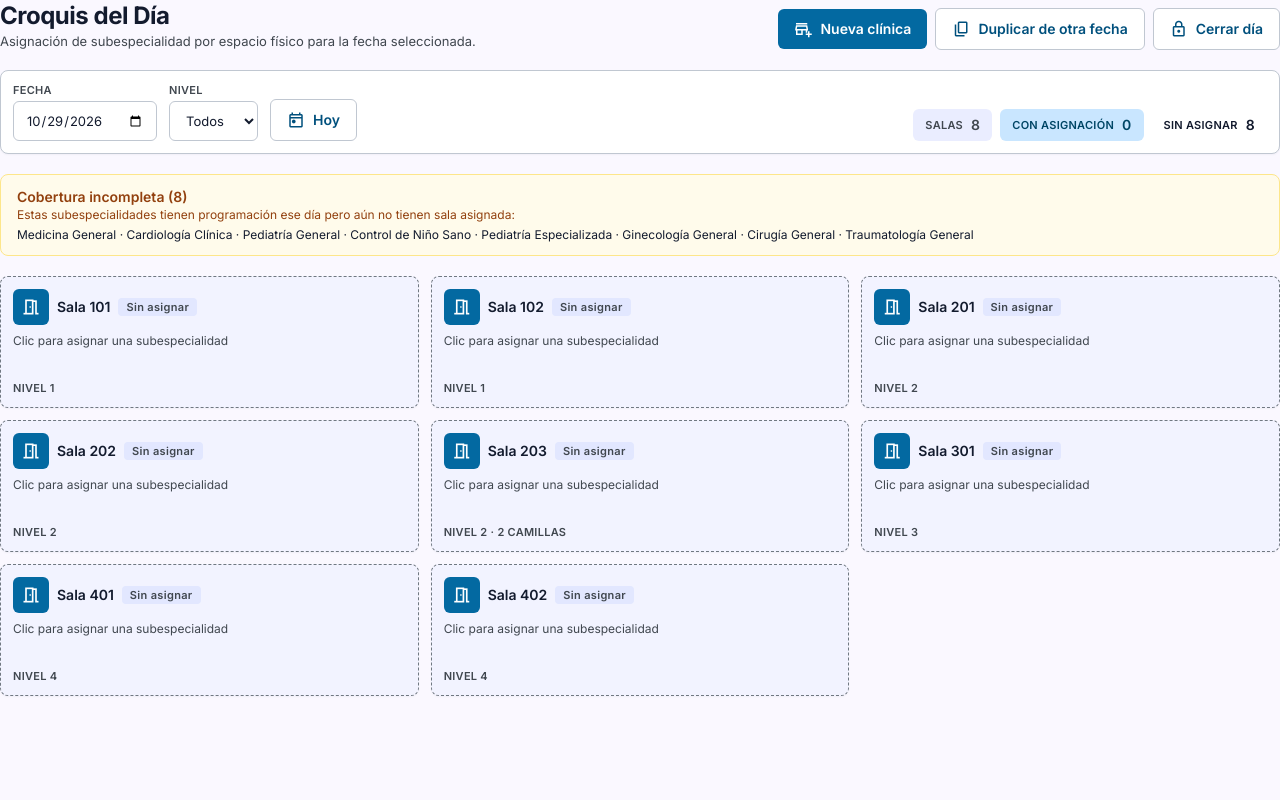
Test case: CroquisPage › permite varias subespecialidades en una misma sala
Click the button with test id "sala-201".
click(1071, 342)  # box [861,276,1279,408]
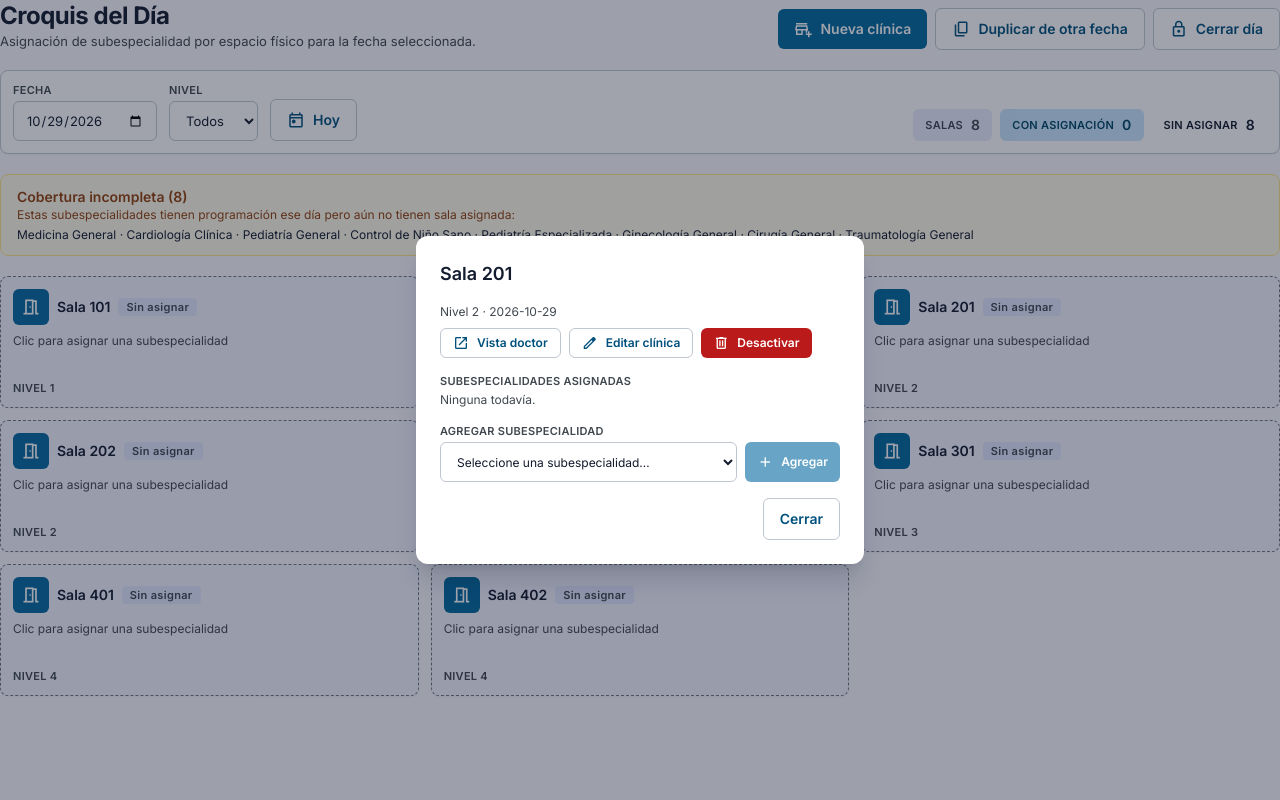
Select "Pediatría General — Pediatría" in the dropdown at [589, 462], box [440,442,737,482]
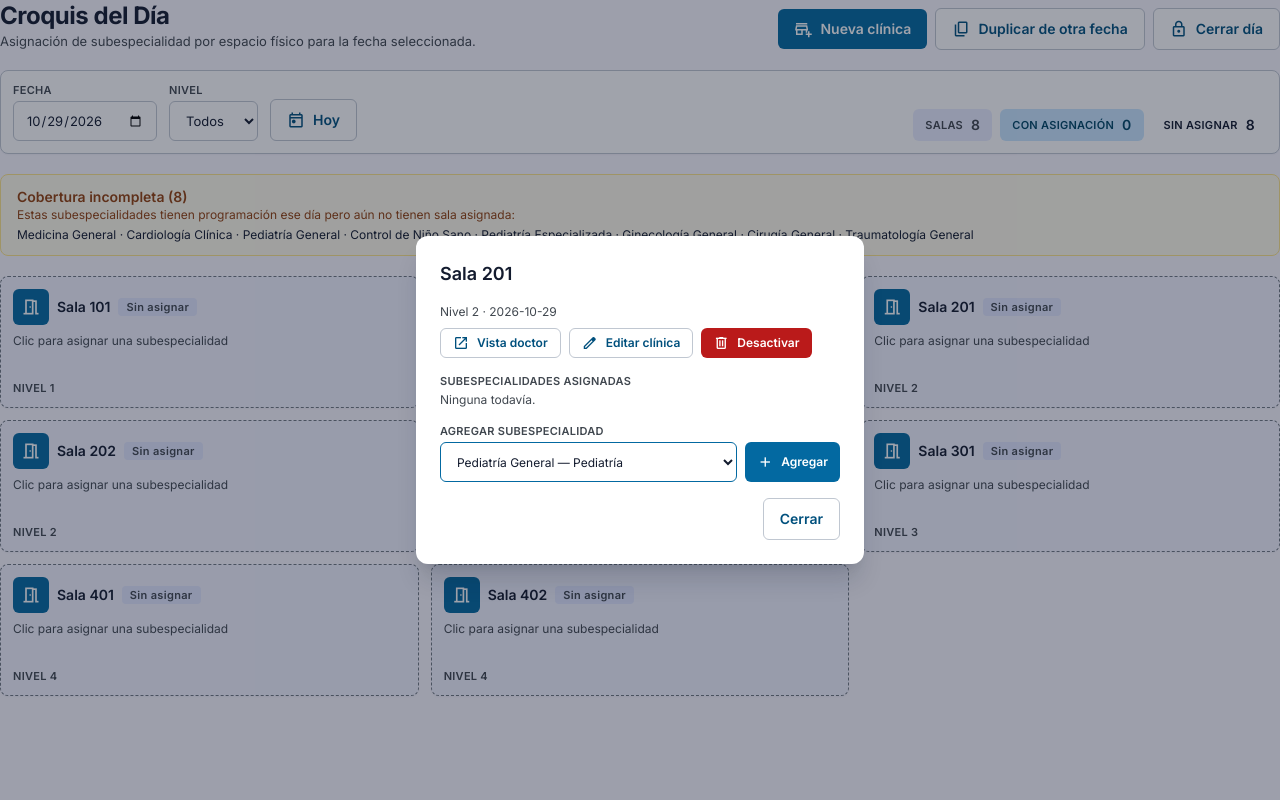
Click the button "Agregar".
click(793, 462)  # box [745,442,840,482]
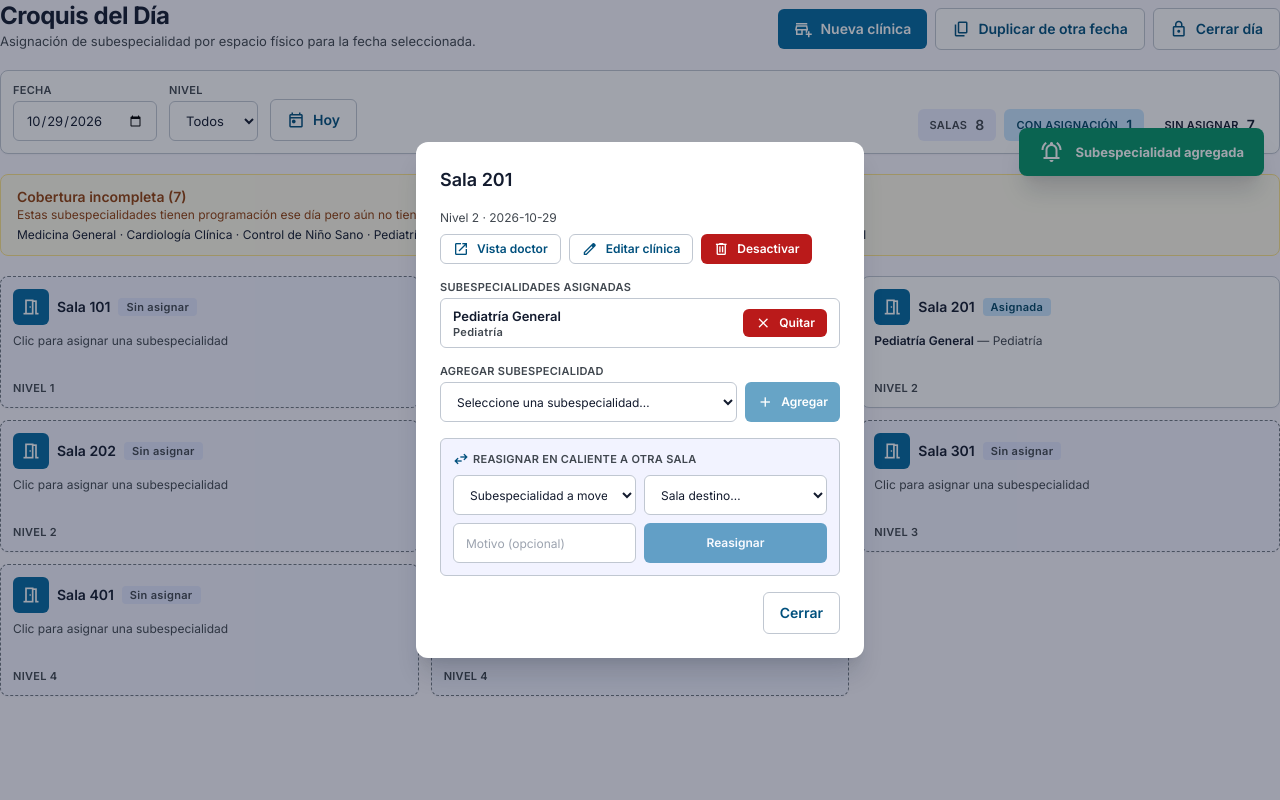
Select "Control de Niño Sano — Pediatría" in the dropdown below "Agregar subespecialidad" at [589, 402], box [440,382,737,422]
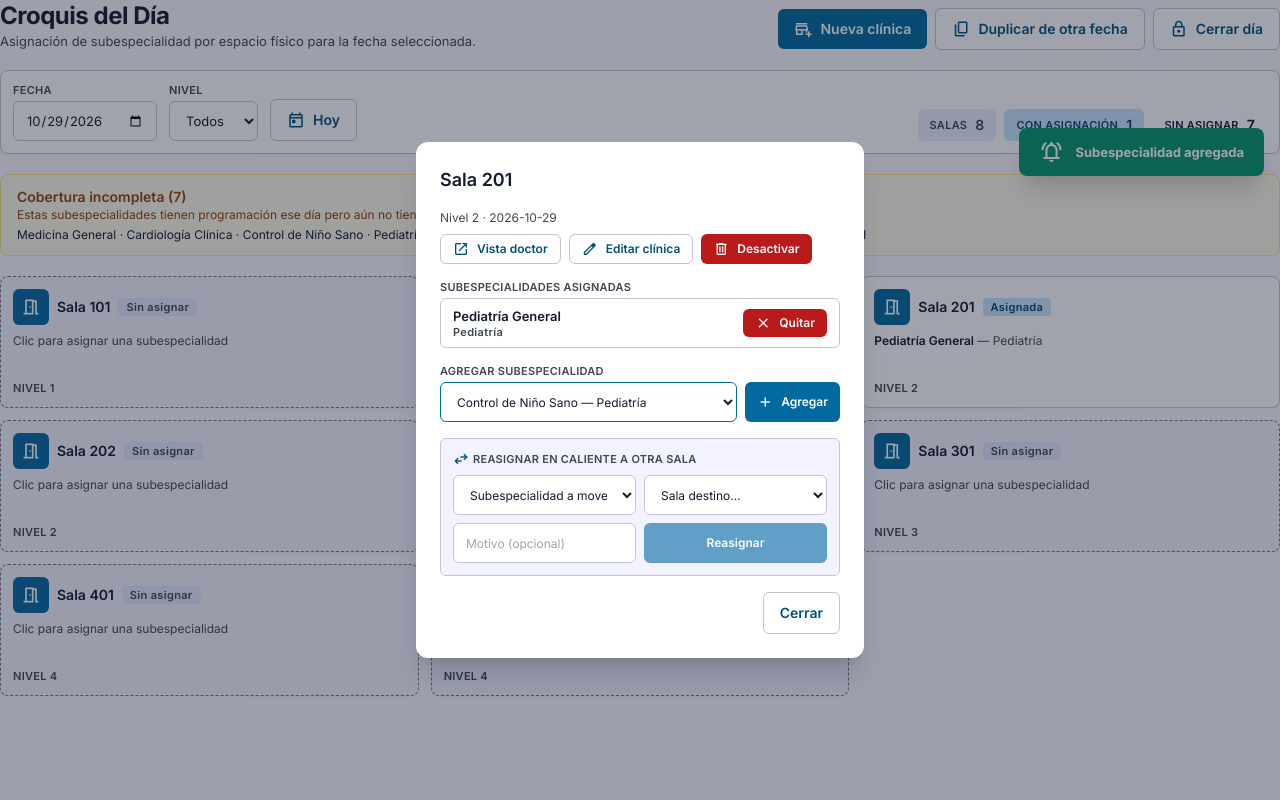
Click the button "Agregar".
click(793, 402)  # box [745,382,840,422]
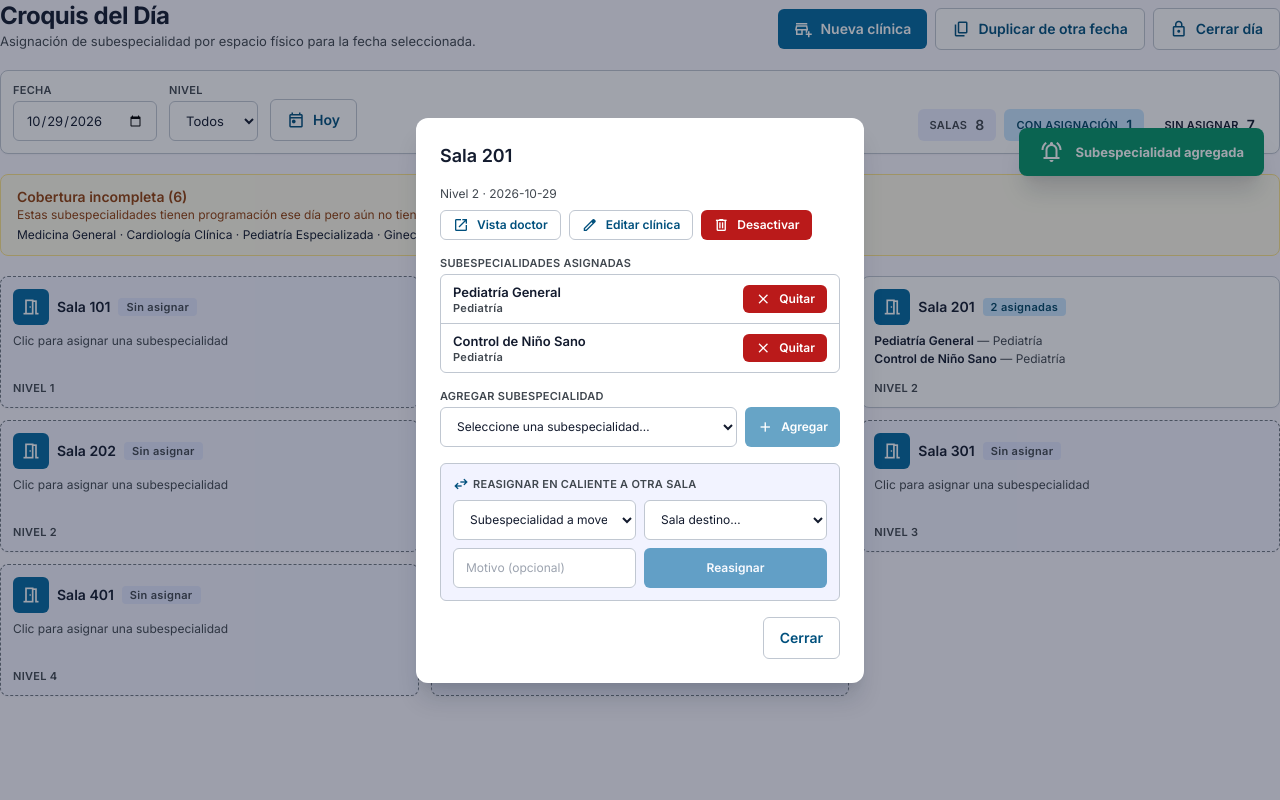
Expected: the text "Pediatría General" below "Salas" is shown, [874,333,974,348]
Expected: the text "Control de Niño Sano" below "Salas" is shown, [874,351,997,366]
Expected: the text "2 asignadas" is shown, [983,298,1066,316]
